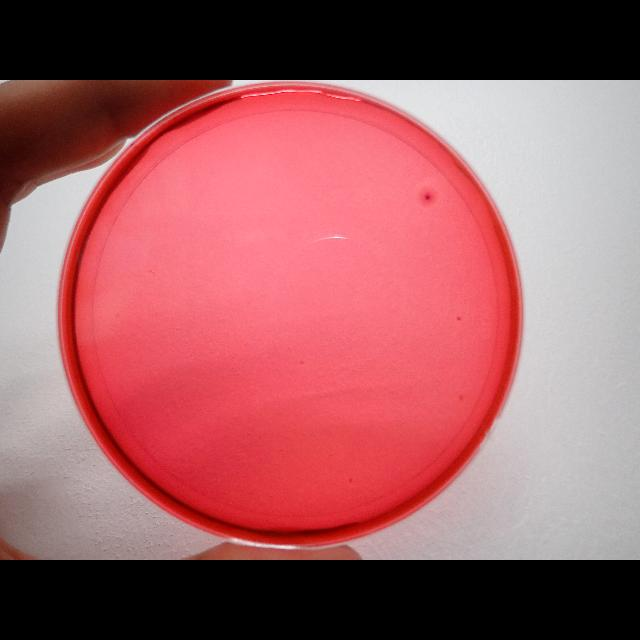colony: (422, 191, 432, 203), (454, 312, 462, 326), (348, 476, 352, 482)
